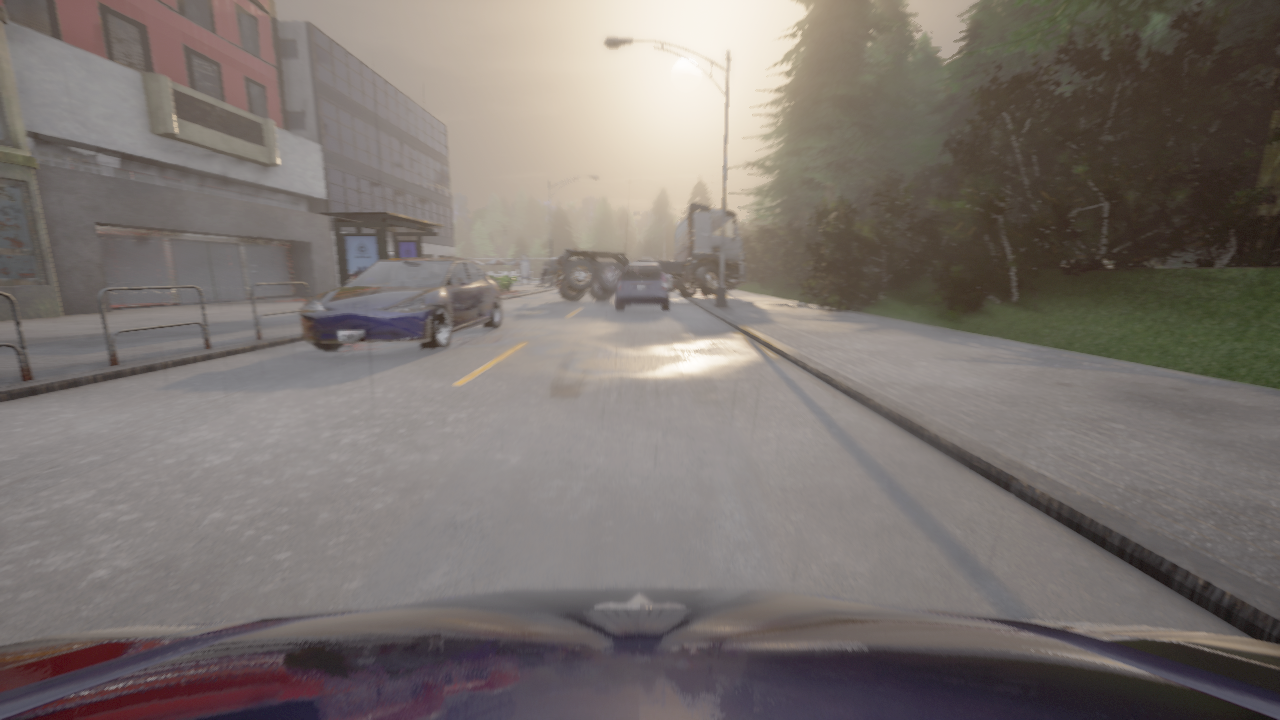cyclist: (0, 588, 1279, 719), (541, 202, 746, 301), (299, 258, 502, 350), (615, 263, 671, 310), (560, 274, 563, 280)
